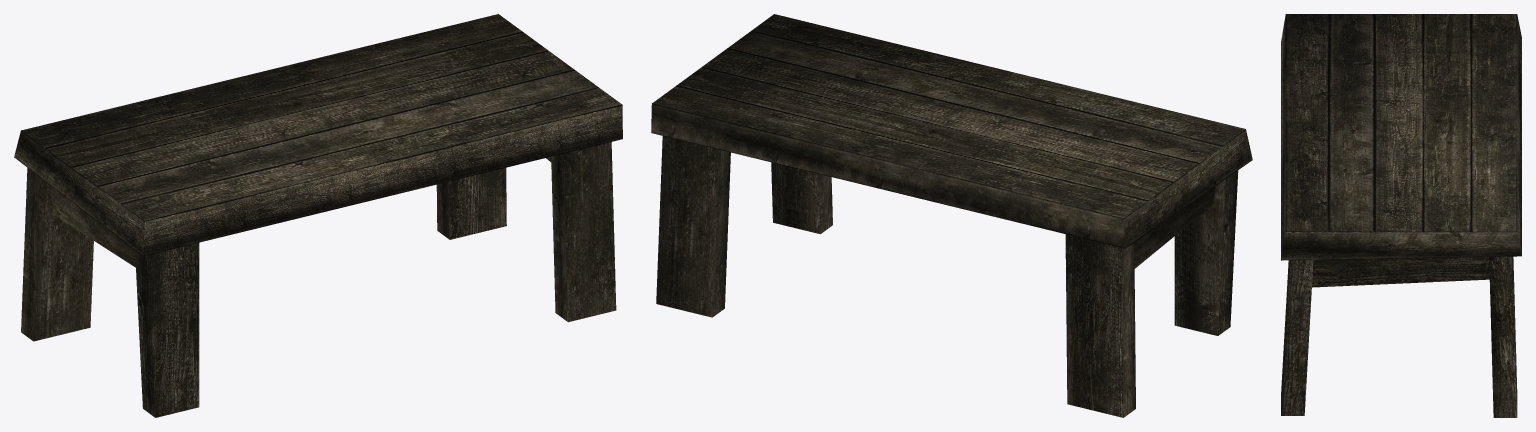
Rendered from OC_TABLE_V3.glb.
3 views of the same model, side by side, from view 1: azimuth 30°, elevation 25°; view 2: azimuth 150°, elevation 25°; view 3: azimuth 270°, elevation 25° (orthographic). The views are drawn at different scales.
Parts seen in each view (by area): view 1: Mesh; view 2: Mesh; view 3: Mesh.
Part boxes in pixels (bbox=[...]): Mesh: bbox=[14, 14, 622, 417]; Mesh: bbox=[651, 14, 1252, 417]; Mesh: bbox=[1281, 14, 1521, 417].
Bounding box in the file's own units: 2.2 × 0.8801 × 1.02.
Materials: 2 (2 with a texture image).
